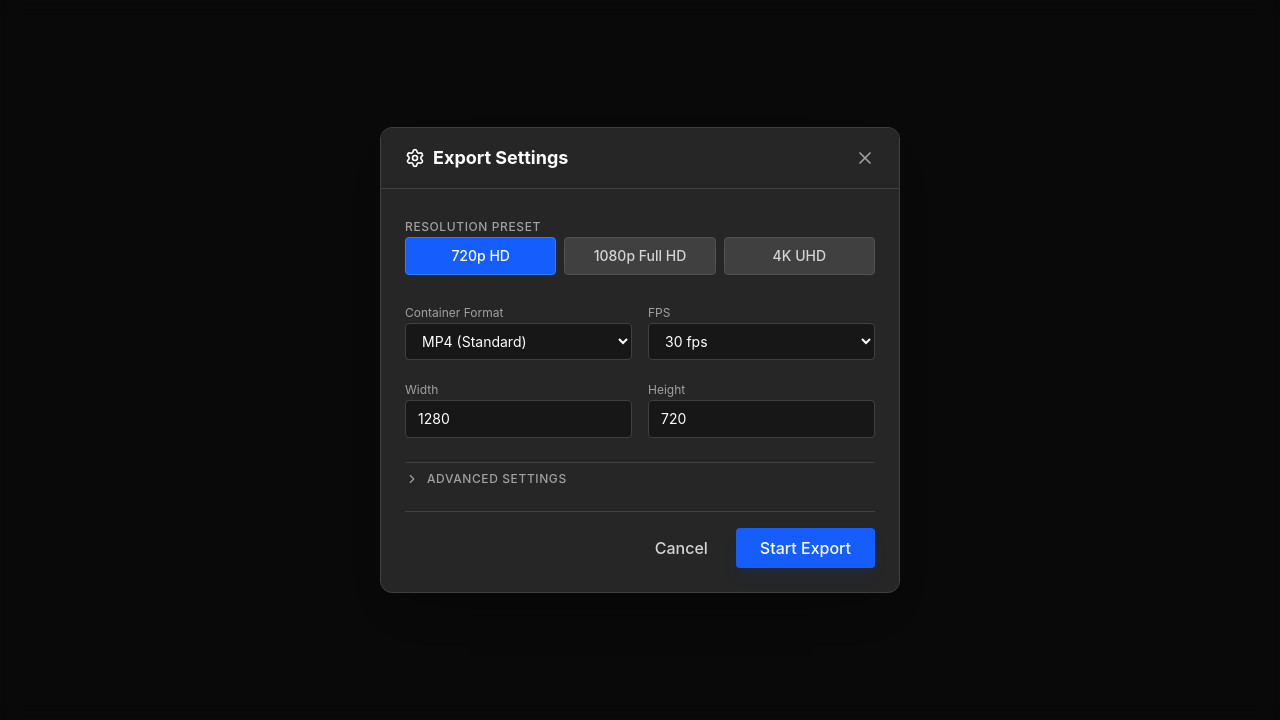
Test: ExportModal › starts export and shows progress
Click the button "Start Export": (805,548) [736, 528, 875, 568]
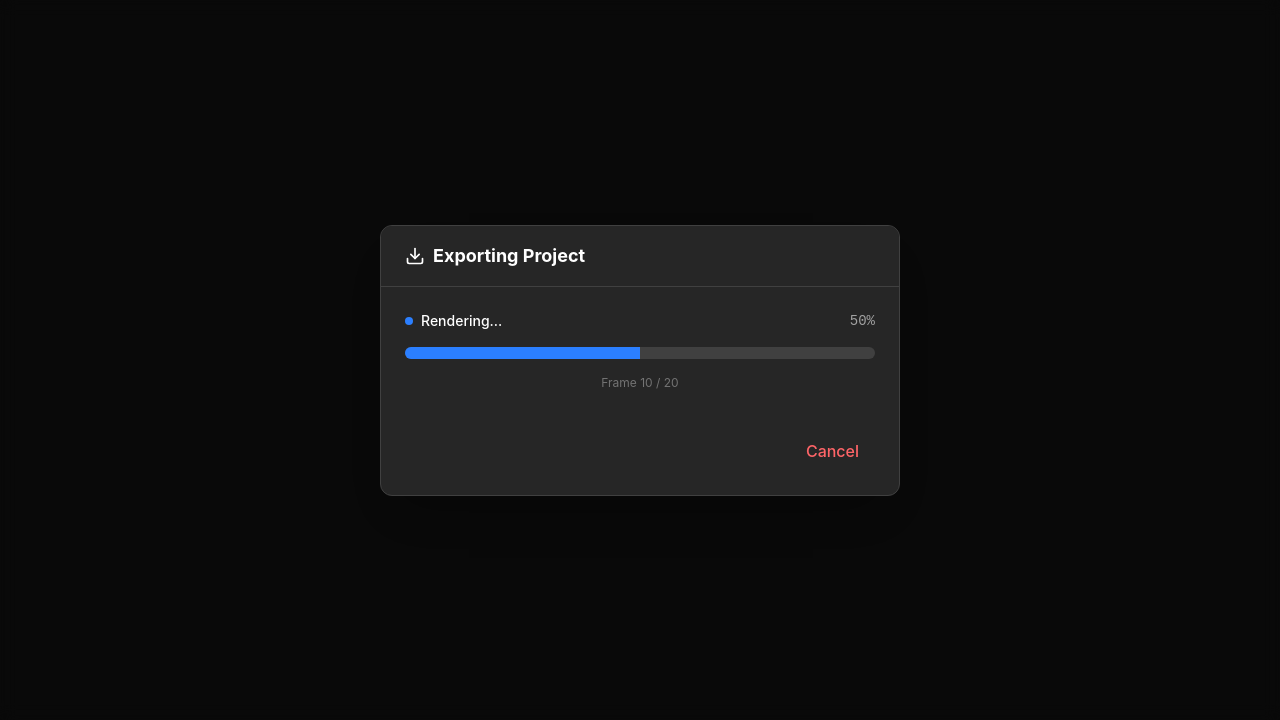
Now the heading "Exporting Project" is shown, box [405, 242, 585, 270]
Now the text "Rendering..." is shown, box [421, 310, 502, 330]
Now the text "50%" is shown, box [850, 310, 875, 330]
